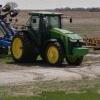Tractor: (14, 8, 92, 74)
